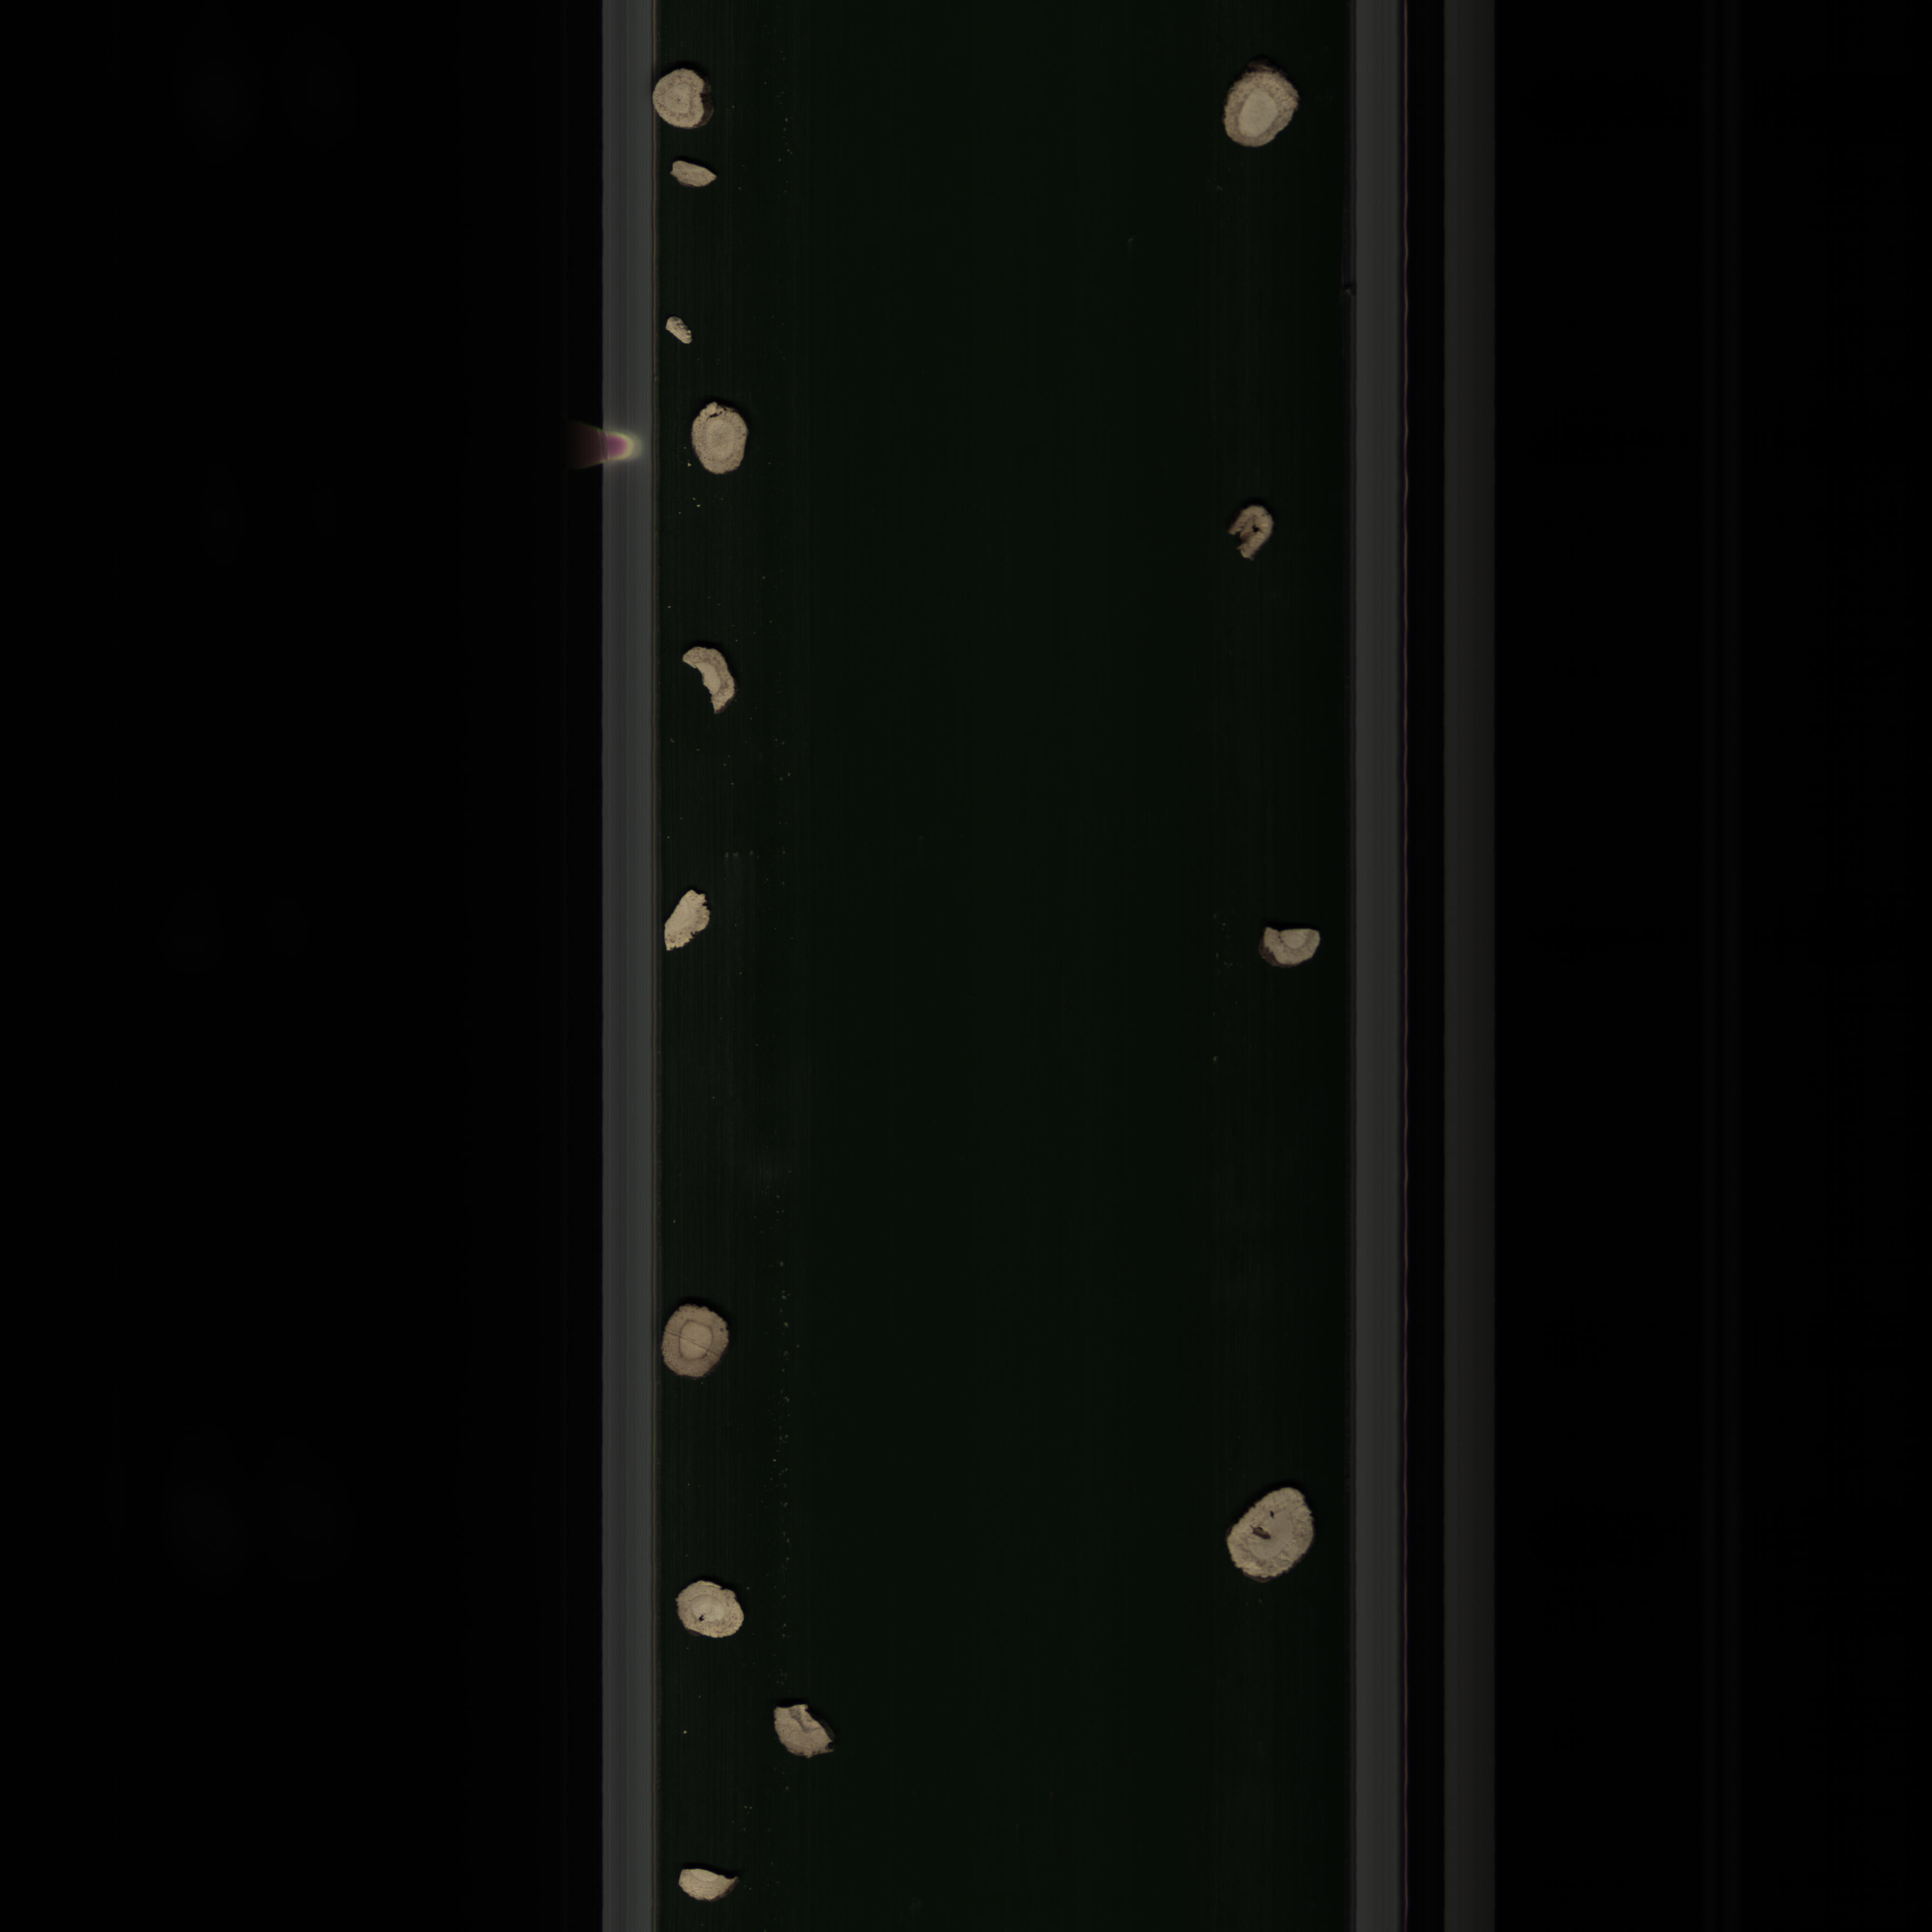debris: (679, 633, 738, 720), (662, 876, 709, 964), (1249, 920, 1330, 971), (665, 149, 717, 196), (663, 303, 708, 354)
moldy: (1223, 487, 1283, 566)
